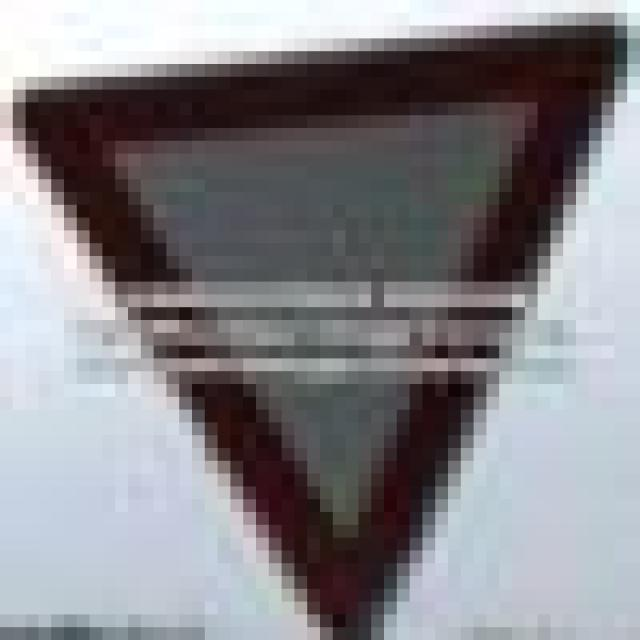GIVE_WAY: (0, 13, 627, 627)
